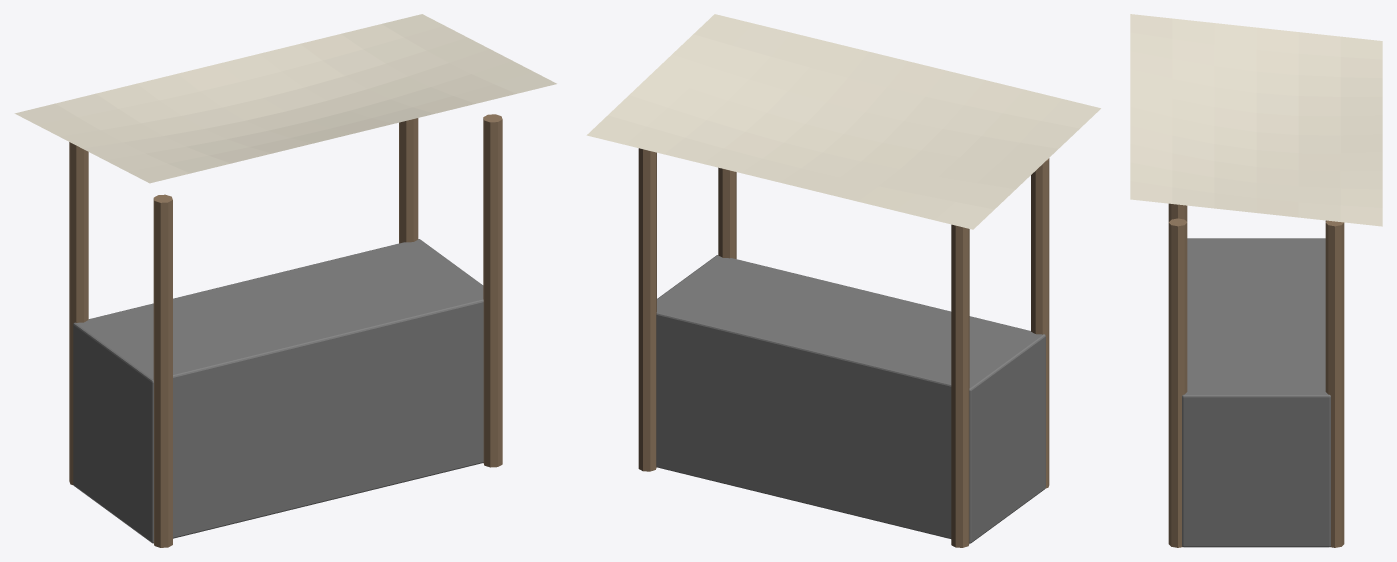
The model's file is stall.glb.
3 renders of one model, left to right at view 1: azimuth 30°, elevation 25°; view 2: azimuth 150°, elevation 25°; view 3: azimuth 270°, elevation 25°, orthographic. The views are drawn at different scales.
Parts seen in each view (by area): view 1: counter, canopy, post.002, post, post.001, post.003; view 2: counter, canopy, post.003, post.001, post, post.002; view 3: canopy, counter, post.002, post.003.
Boxes of the visible parts, <box> form: counter: <box>73,239,483,543</box>; canopy: <box>14,14,556,183</box>; post.002: <box>483,114,502,467</box>; post: <box>153,194,172,547</box>; post.001: <box>69,142,88,484</box>; post.003: <box>399,118,418,243</box>; counter: <box>656,255,1045,543</box>; canopy: <box>586,14,1100,229</box>; post.003: <box>638,148,656,471</box>; post.001: <box>951,224,969,547</box>; post: <box>1031,158,1049,488</box>; post.002: <box>718,167,736,258</box>; canopy: <box>1130,14,1382,226</box>; counter: <box>1182,238,1330,547</box>; post.002: <box>1168,218,1187,547</box>; post.003: <box>1325,220,1344,547</box>.
Bounding box in the file's own units: 2.35 × 2.14 × 1.35.
3 materials, 1 textured.
